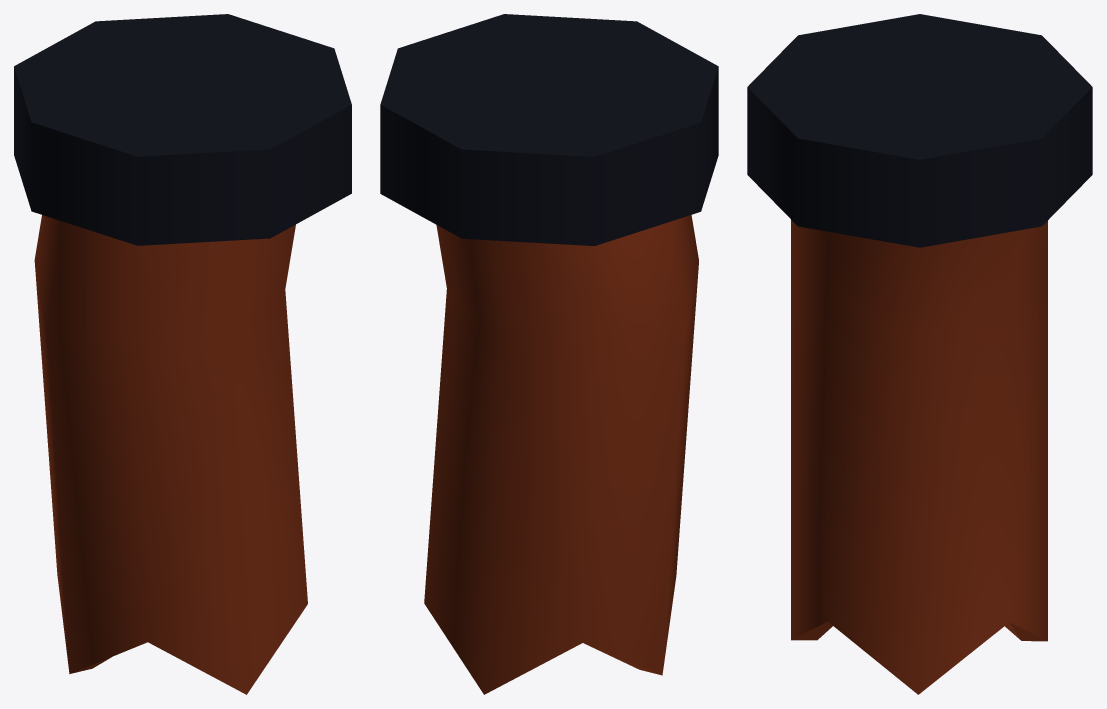
File: Pipe_2.FBX
3 renders of one model, left to right at view 1: azimuth 30°, elevation 25°; view 2: azimuth 150°, elevation 25°; view 3: azimuth 270°, elevation 25°, orthographic.
Visible parts, largest first — view 1: Pipe_2; view 2: Pipe_2; view 3: Pipe_2.
Boxes of the visible parts, left/top/right/bottom form: Pipe_2: left=14, top=14, right=351, bottom=694; Pipe_2: left=380, top=14, right=718, bottom=694; Pipe_2: left=747, top=14, right=1092, bottom=694.
Size of the model in its own units: 15.46 by 27.39 by 15.46.
